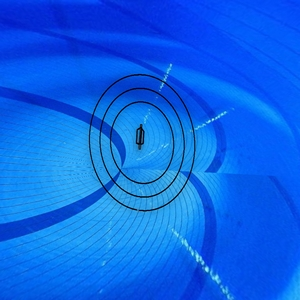circle: (87, 72, 201, 216)
submarine: (134, 119, 150, 151)
